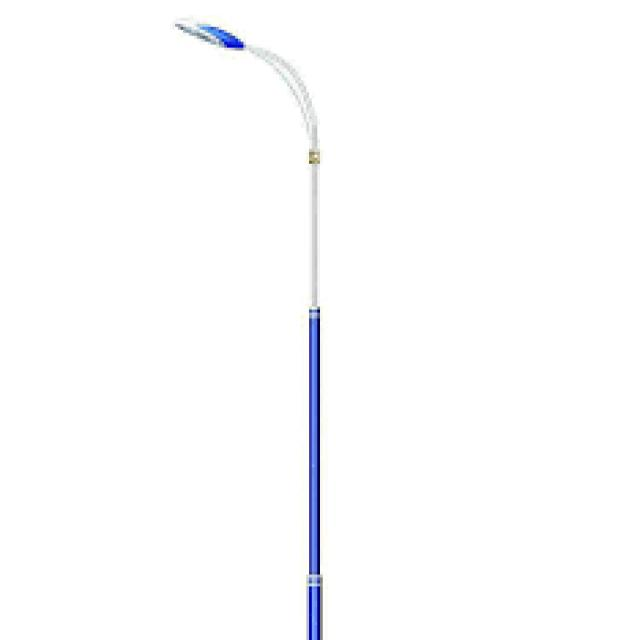Street Light: (172, 15, 323, 640)
